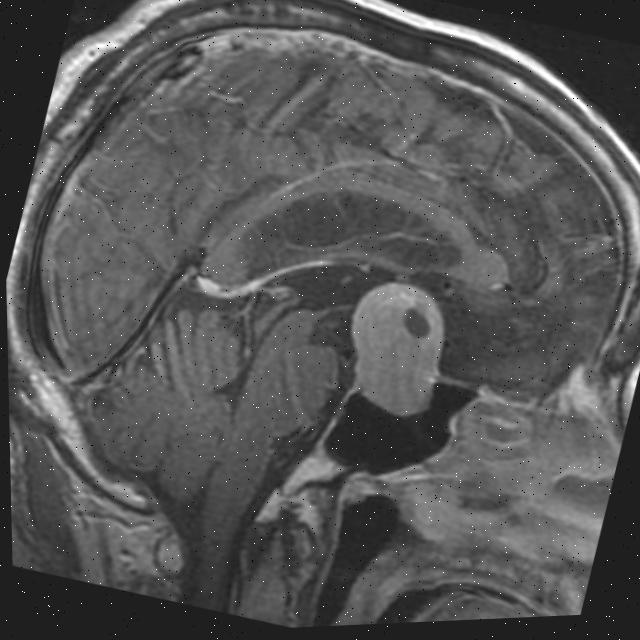Pituitary: (326, 268, 463, 429)
